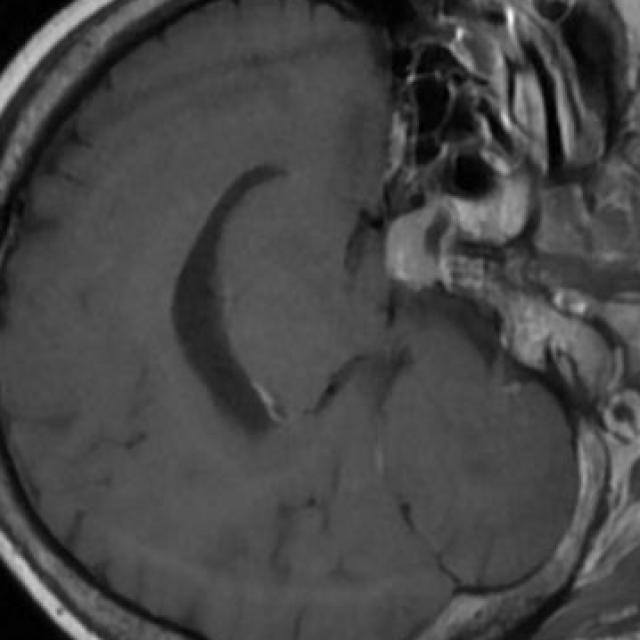pituitary: (385, 207, 439, 289)
